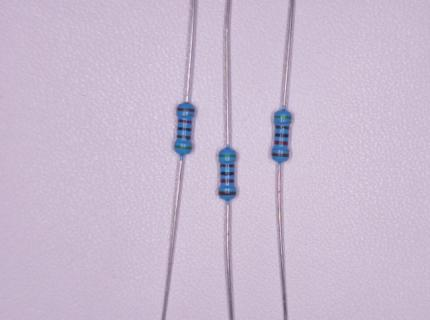Black band: (177, 127, 192, 132), (220, 171, 235, 176), (274, 133, 289, 138)
Brown band: (272, 152, 289, 158), (219, 191, 236, 196), (176, 135, 191, 140), (220, 163, 235, 168), (177, 108, 195, 112), (275, 125, 289, 130)
Green band: (174, 145, 193, 150), (274, 115, 292, 120), (218, 154, 237, 158)
Red band: (178, 119, 192, 124), (274, 140, 288, 145), (221, 179, 235, 183)
